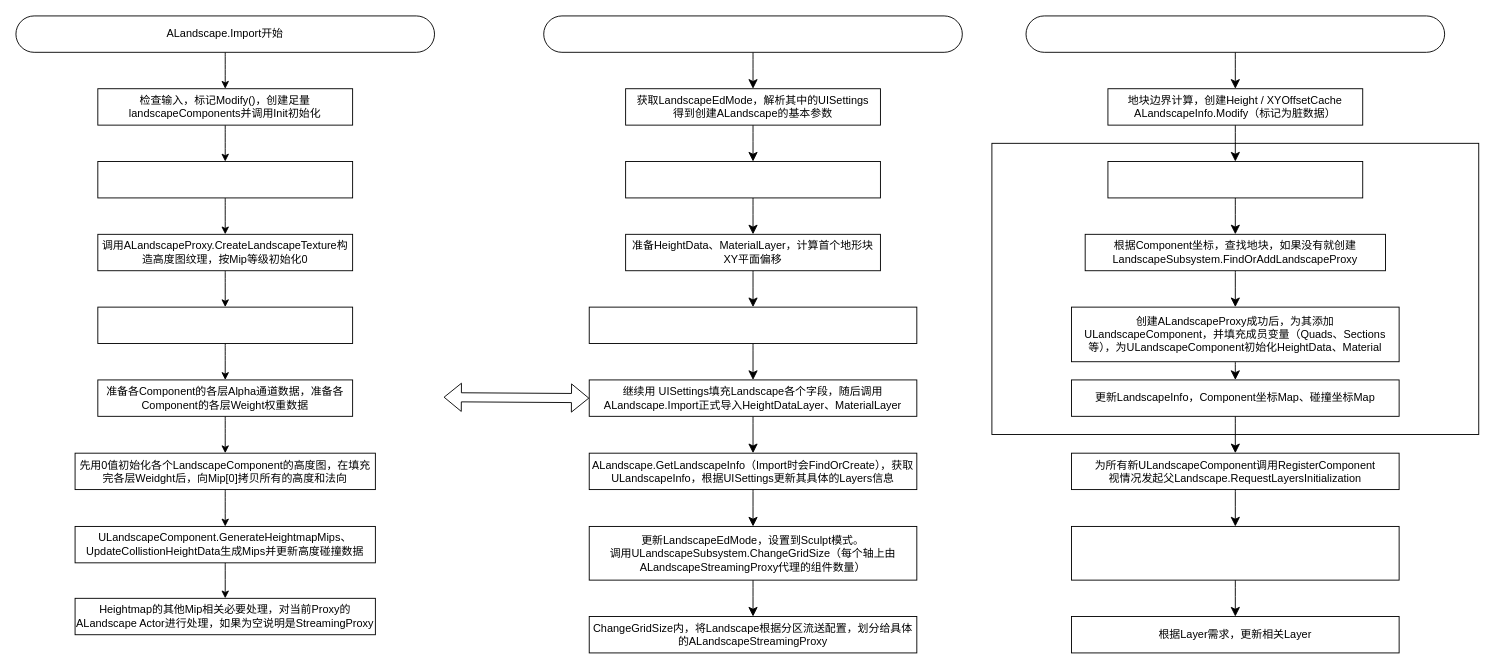
Some shapes in this 1495 by 669 pixel diagram are drawn without their labels. Each missing label, with the box of its shape:
LandscapeEdMode->GetWorld()->SpawnActor<ALandscape>(): (588, 306, 917, 344)
为所有新ULandscapeComponent做一系列调用：Layer数据初始化，更新缓存边界，标记脏渲染状态: (1071, 526, 1399, 580)
从输入HeightData、MaterialData中引用数据。根据高度数据计算法向量: (97, 306, 353, 344)
创建新地块循环: (991, 142, 1479, 435)
新增地形 FLandscapeEditorDetailCustomization_NewLandscape::OnCreateButtonClicked: (543, 15, 962, 52)
根据LandscapeEdMode，决定是创建还是导入: (625, 161, 880, 198)
检验高度图大小（避免LOD无法常驻），检验高度图UVs坐标是2的整数倍: (97, 161, 353, 198)
添加地块 FLandscapeToolStrokeAddComponent::Apply: (1025, 15, 1445, 52)
遍历Component坐标（一次可以创建多个ULandscapeComponent）: (1107, 161, 1363, 198)
